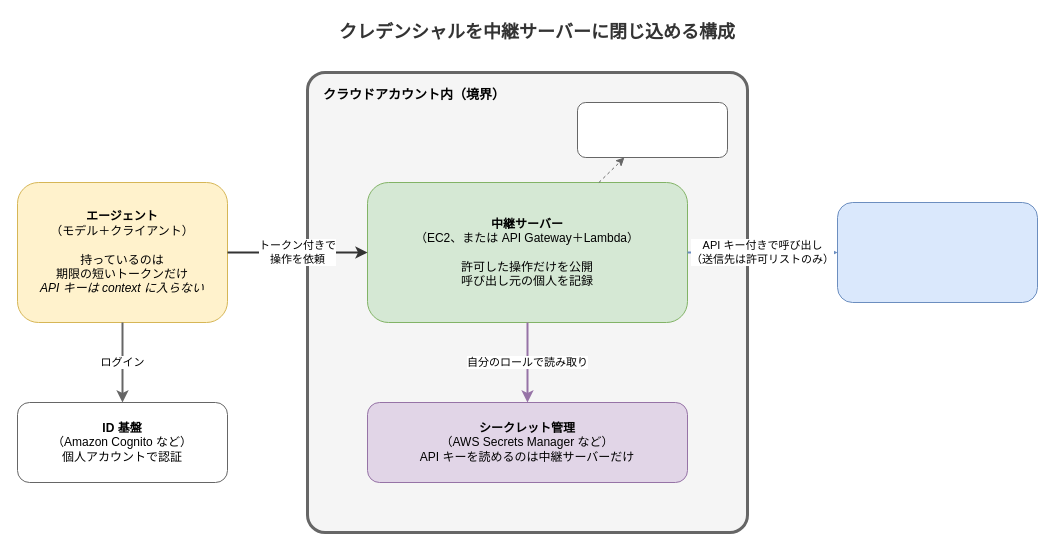
Image size: 1055x551. Some labels were removed from this diagram. The shapes that lost their labels are listed below. From the top down, each one's box as (x1, y1, x2, y2) in pixels, then its label:
(576, 102, 728, 158): 監査ログ 誰が・どの操作を
(836, 202, 1038, 302): 外部 API （データソース）
